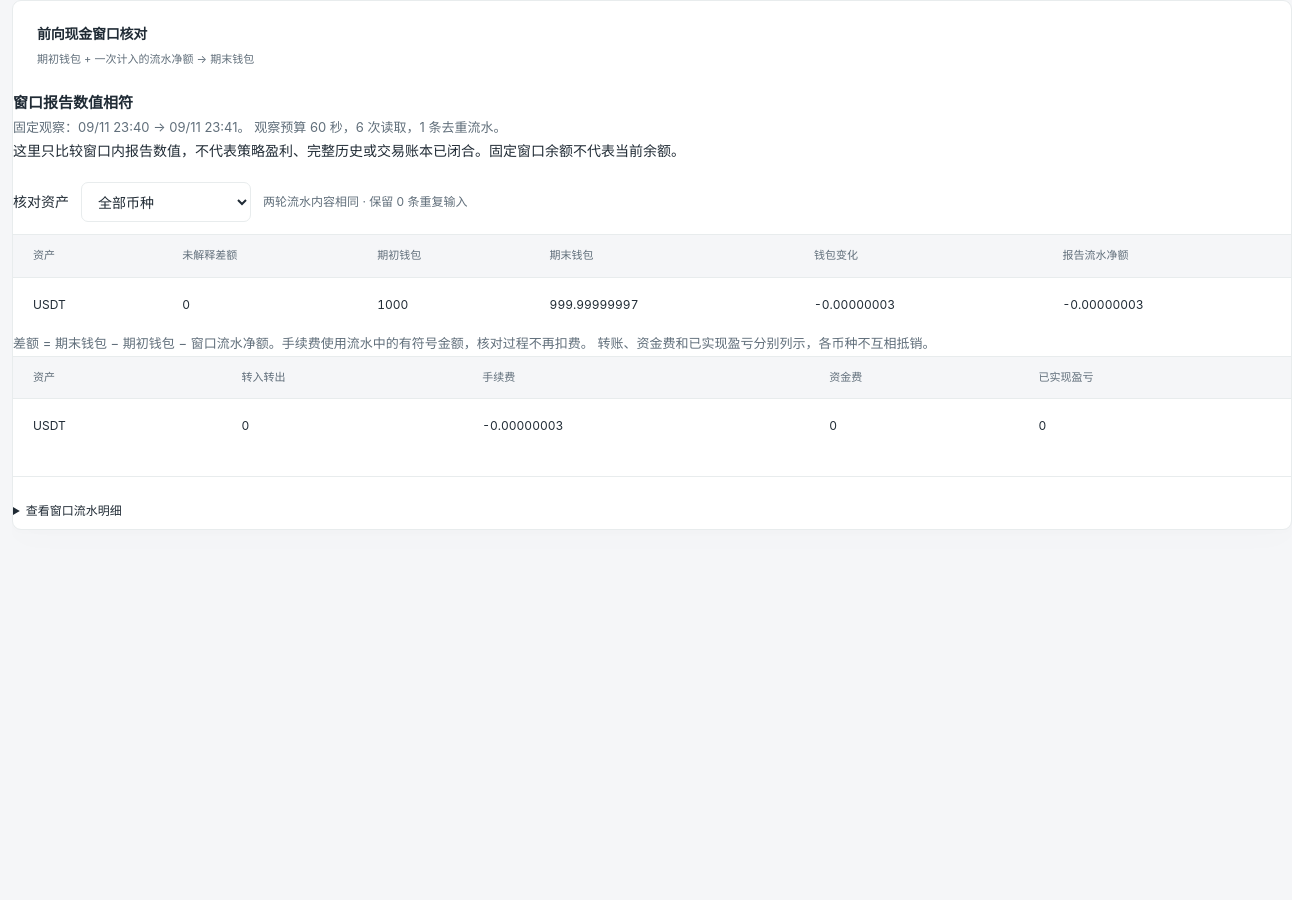
Test: shows exact movement and scope without turning an account comparison into strategy profit
Expected: the heading "窗口报告数值相符" is shown, [13, 93, 133, 112]
Expected: the text "999.99999997" is shown, [530, 277, 794, 331]
Click the heading "查看窗口流水明细" at (74, 511), box [26, 503, 122, 518]
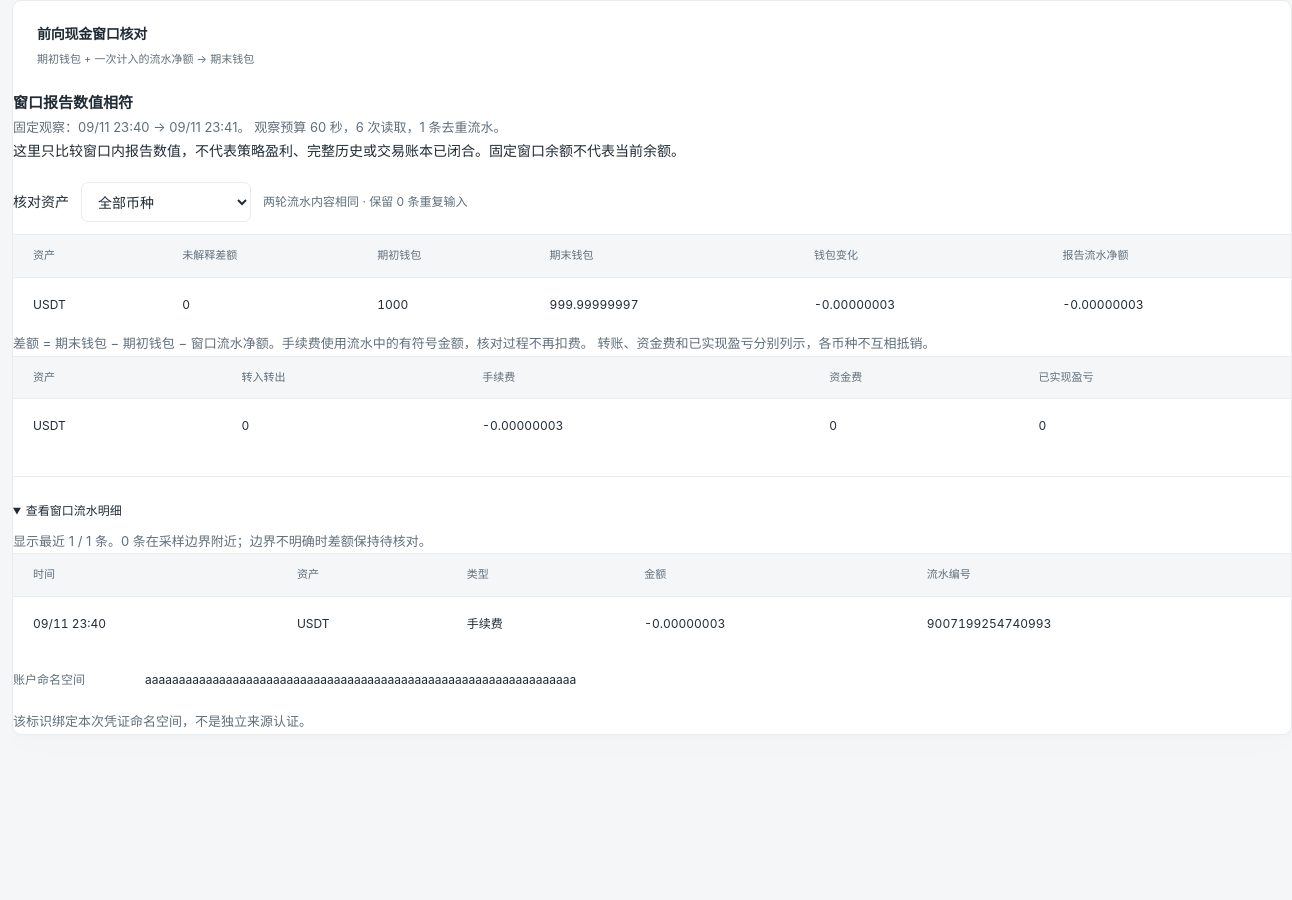
Expected: the text "这里只比较窗口内报告数值，不代表策略盈利、完整历史或交易账本已闭合。固定窗口余额不代表当前余额。" is shown, [13, 142, 685, 159]
Result: the text "9007199254740993" is shown at [907, 596, 1291, 650]
